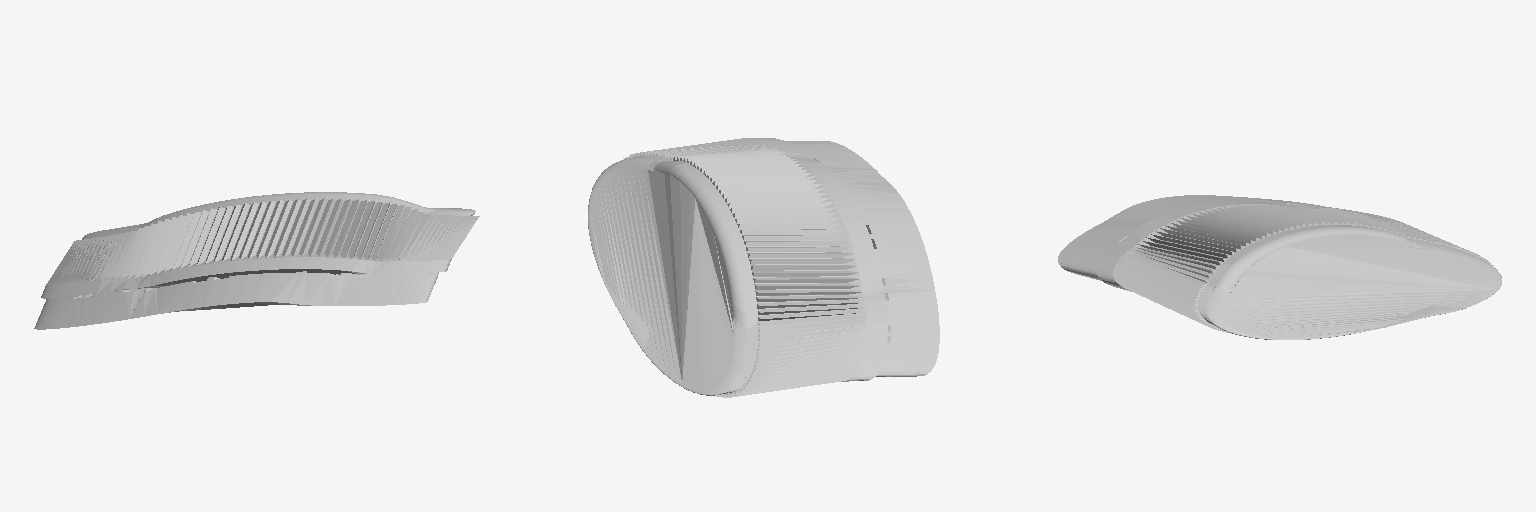
File: bottle_cap_short.006.obj
3 renders of one model, left to right at view 1: azimuth 30°, elevation 25°; view 2: azimuth 150°, elevation 25°; view 3: azimuth 270°, elevation 25°, orthographic.
Parts seen in each view (by area): view 1: bottle_cap_short.006; view 2: bottle_cap_short.006; view 3: bottle_cap_short.006.
Boxes of the visible parts, x1=… form: bottle_cap_short.006: x1=34, y1=192, x2=479, y2=329; bottle_cap_short.006: x1=588, y1=138, x2=939, y2=397; bottle_cap_short.006: x1=1058, y1=195, x2=1501, y2=339.
Bounding box in the file's own units: 0.0341 × 0.0086 × 0.0343.